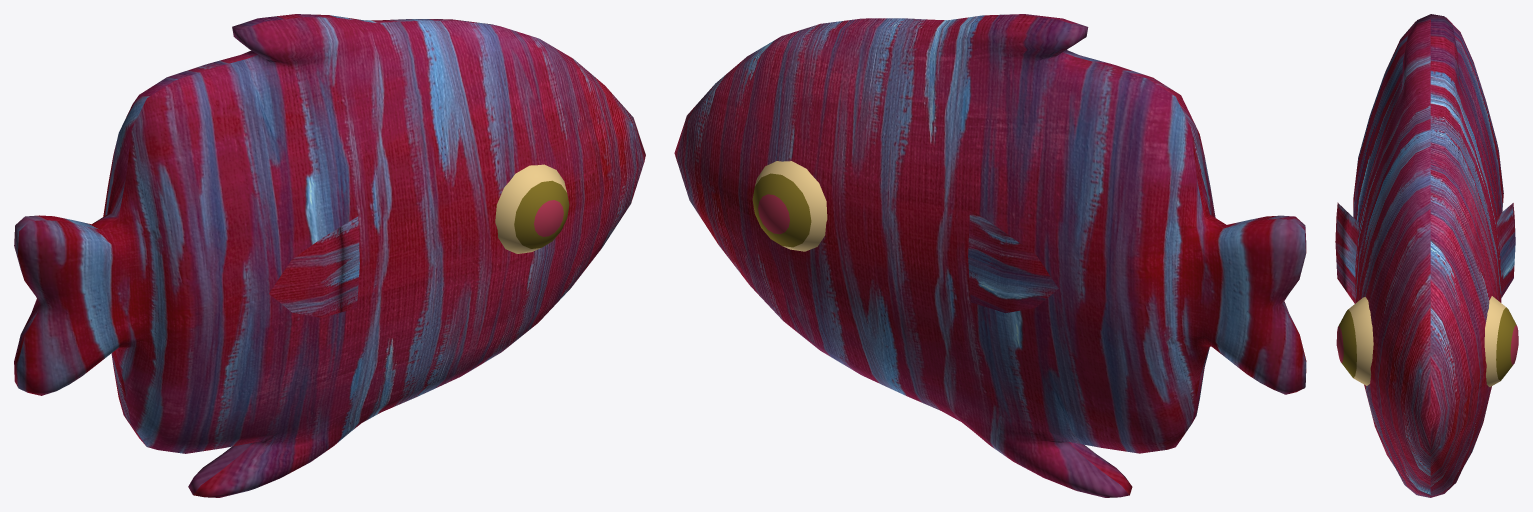
The model's file is NEWpurplefish.fbx.
3 views of the same model, side by side, from view 1: azimuth 30°, elevation 25°; view 2: azimuth 150°, elevation 25°; view 3: azimuth 270°, elevation 25° (orthographic). The views are drawn at different scales.
Visible parts, largest first — view 1: Plane.002, Sphere.002; view 2: Plane.002, Sphere.002; view 3: Plane.002, Sphere.002.
Boxes of the visible parts, x1=… form: Plane.002: x1=14, y1=14, x2=645, y2=497; Sphere.002: x1=495, y1=164, x2=569, y2=253; Plane.002: x1=674, y1=14, x2=1306, y2=497; Sphere.002: x1=752, y1=161, x2=827, y2=251; Plane.002: x1=1335, y1=14, x2=1515, y2=497; Sphere.002: x1=1336, y1=296, x2=1518, y2=386.
Bounding box in the file's own units: 771 × 540 × 204.
Materials: 4 (1 with a texture image).
